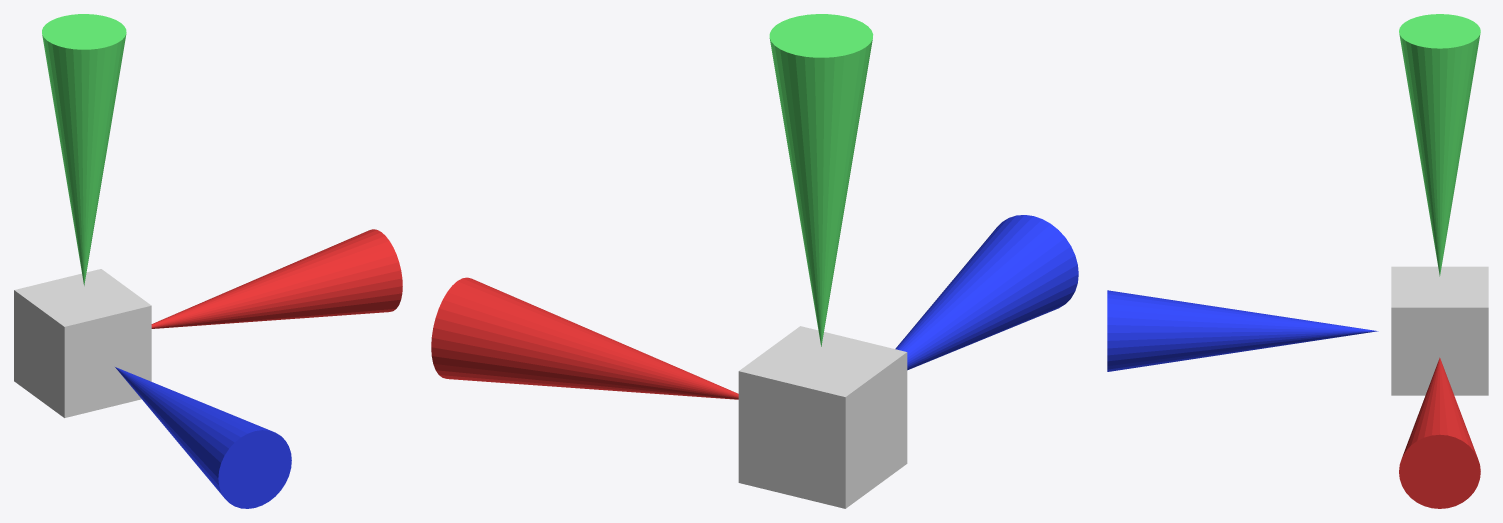
File: axis-xyz.glb
3 renders of one model, left to right at view 1: azimuth 30°, elevation 25°; view 2: azimuth 150°, elevation 25°; view 3: azimuth 270°, elevation 25°, orthographic. The views are drawn at different scales.
Parts seen in each view (by area): view 1: Camera, Up, Right, Left; view 2: Camera, Up, Right, Left; view 3: Camera, Up, Left, Right.
Boxes of the visible parts, x1,y1,x2,y2 form: Camera: (14,269,151,417); Up: (42,14,126,285); Right: (151,229,402,328); Left: (115,367,291,508); Camera: (738,326,907,508); Up: (769,14,873,346); Right: (431,277,738,399); Left: (895,215,1078,370); Camera: (1391,266,1488,395); Up: (1399,14,1480,276); Left: (1107,290,1378,371); Right: (1399,357,1480,508).
Size of the model in its own units: 6.28 by 6.26 by 6.27.
